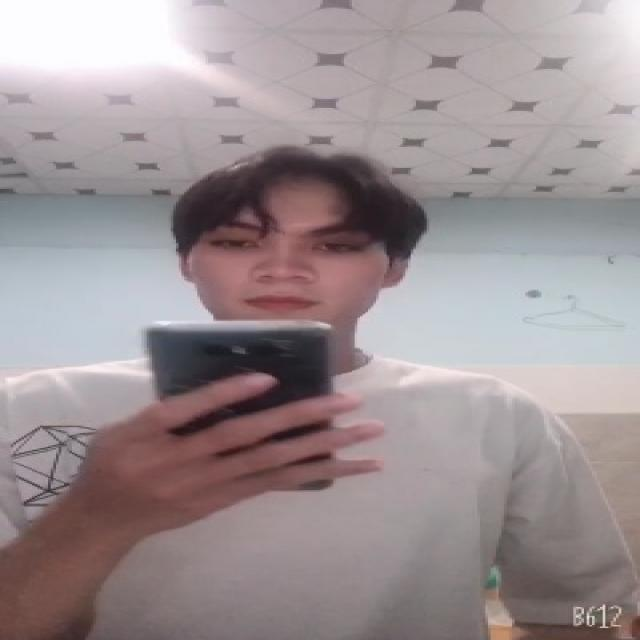Phone: (149, 318, 338, 494)
